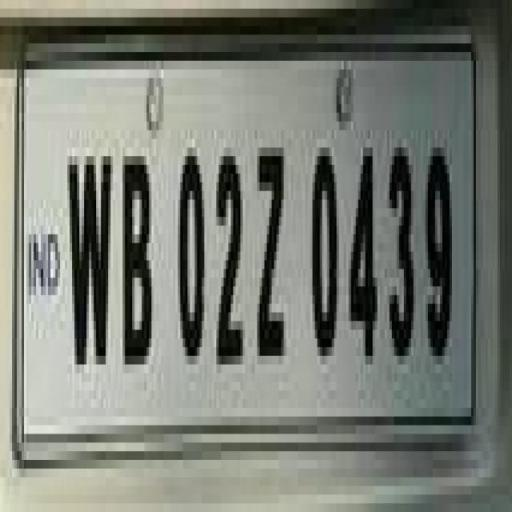number plate: (5, 18, 483, 460)
